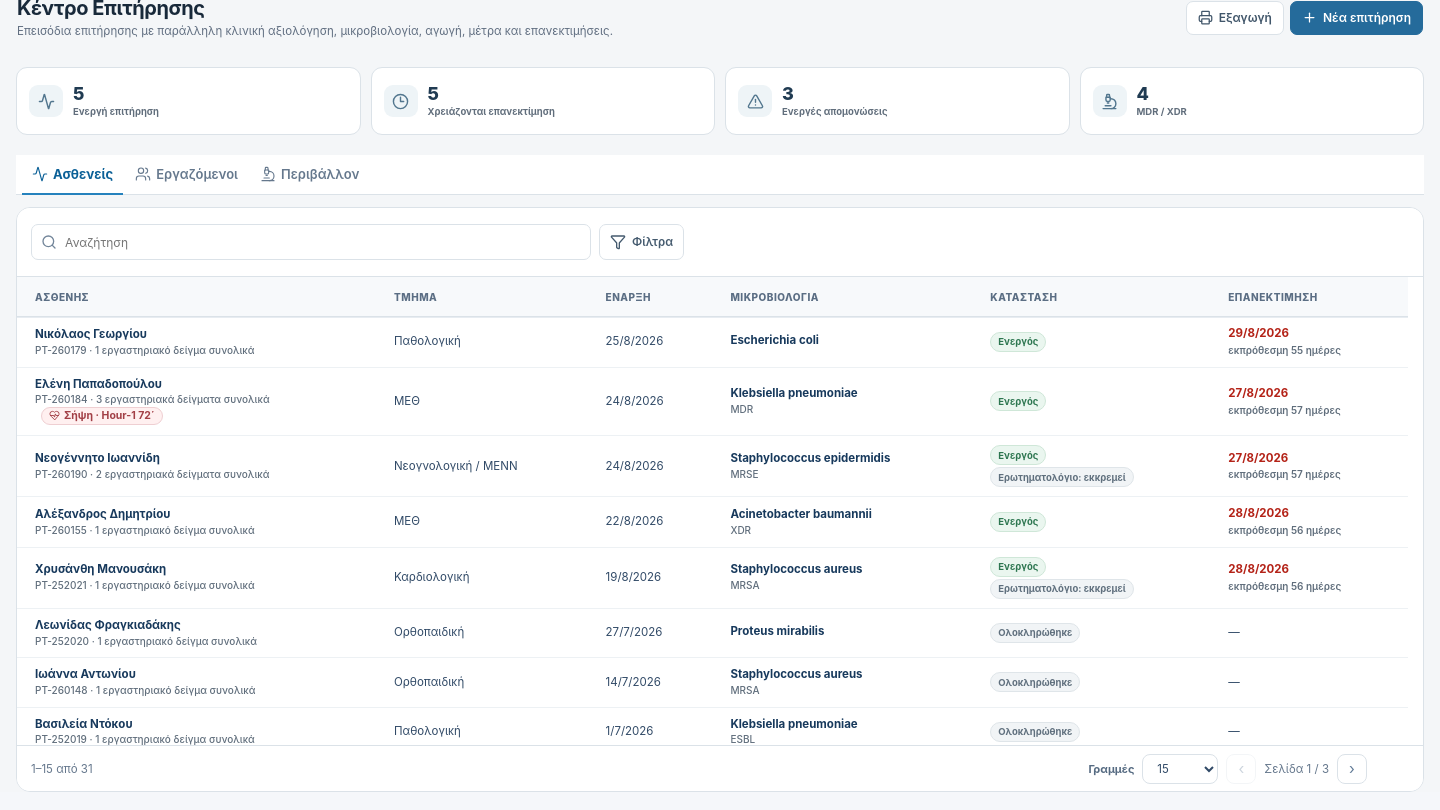
Surveillance Center registry › starts a patient surveillance from the create button of the tab with the shared flow
The button creates what the open tab lists, without a menu or a chooser window.
Click the button "Νέα επιτήρηση" at coordinates (1356, 18), box x1=1290 y1=0 x2=1423 y2=34
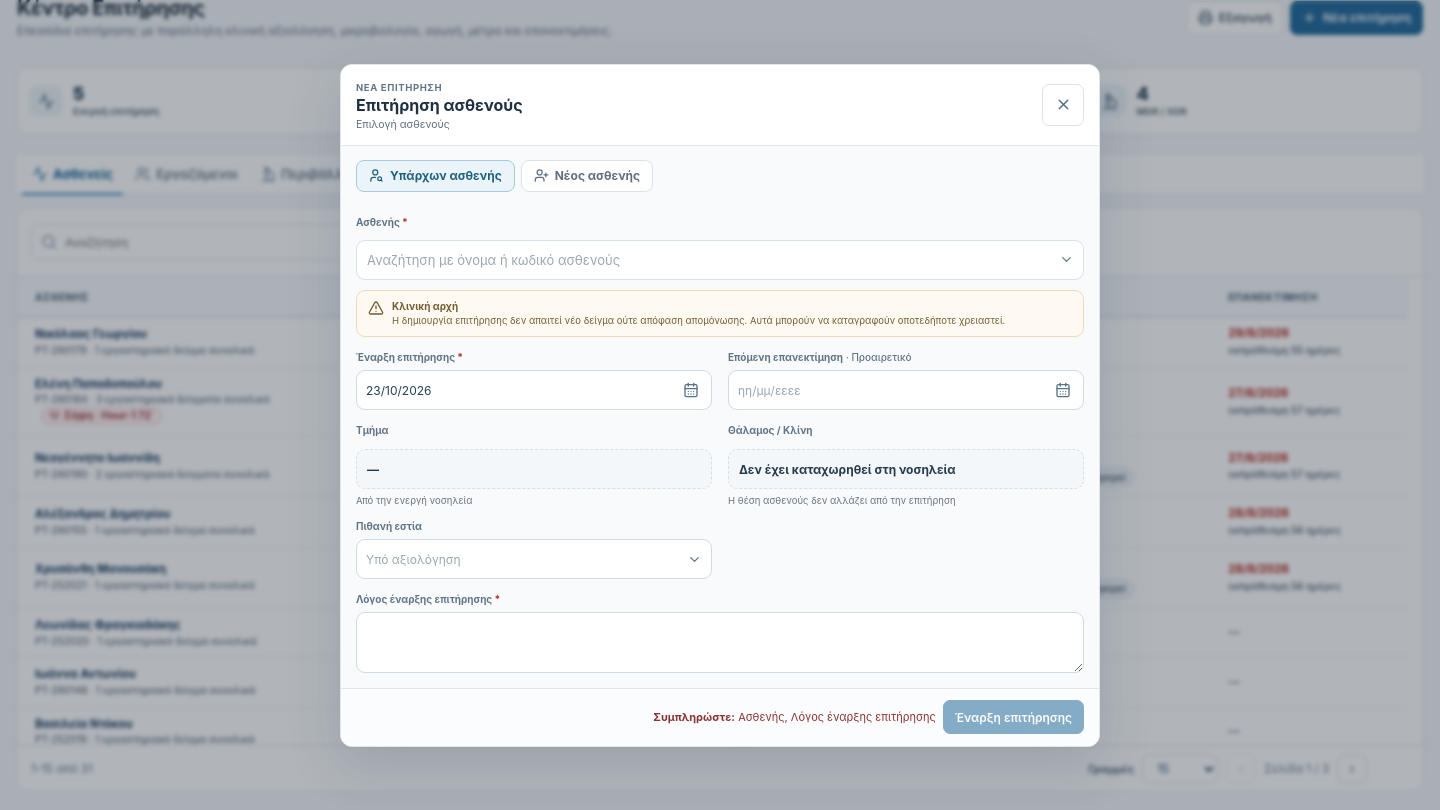
Expected: the text "Νέα επιτήρηση" is shown, x1=356 y1=82 x2=442 y2=92
Expected: the text "Επιλογή ασθενούς" is shown, x1=356 y1=118 x2=450 y2=130
